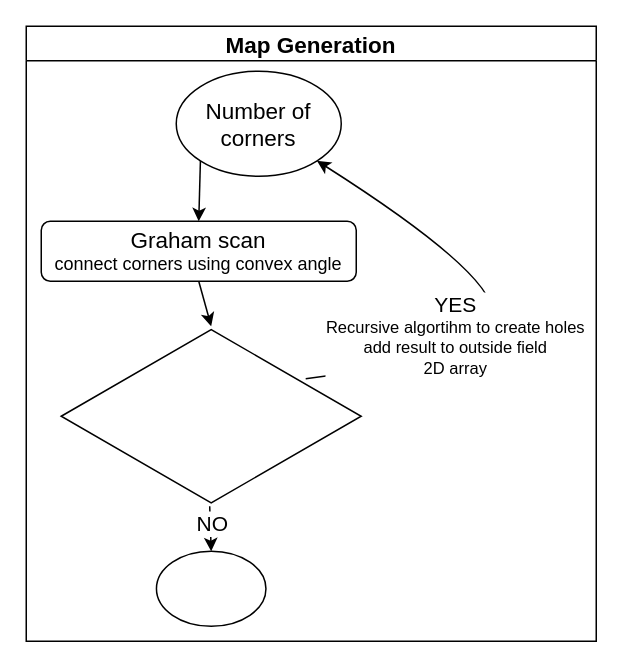
Some shapes in this 623 by 668 pixel diagram are drawn without their labels. Each missing label, with the centre of its shape:
"Has obstacles holes to be added to field" belongs at (210,415).
"Save map" belongs at (210,588).
